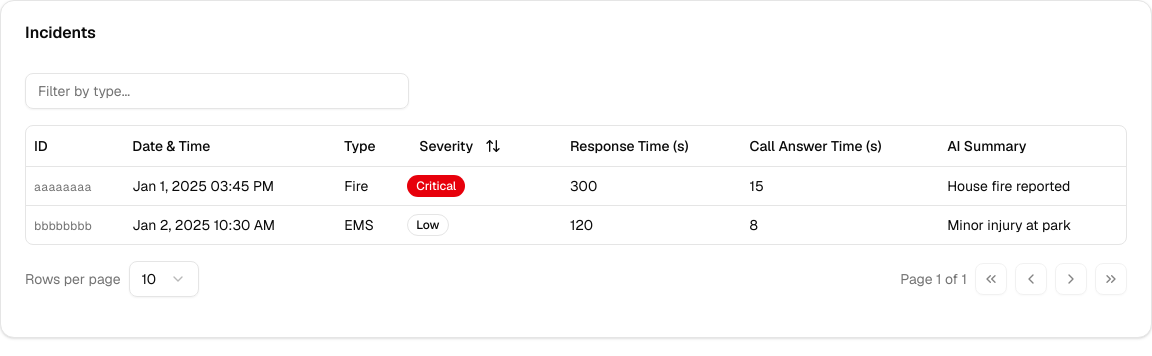
Scenario: IncidentsTable › filters by type
In the field with placeholder "Filter by type...": {"x": 217, "y": 91} [25,73,409,109], type "Fire"
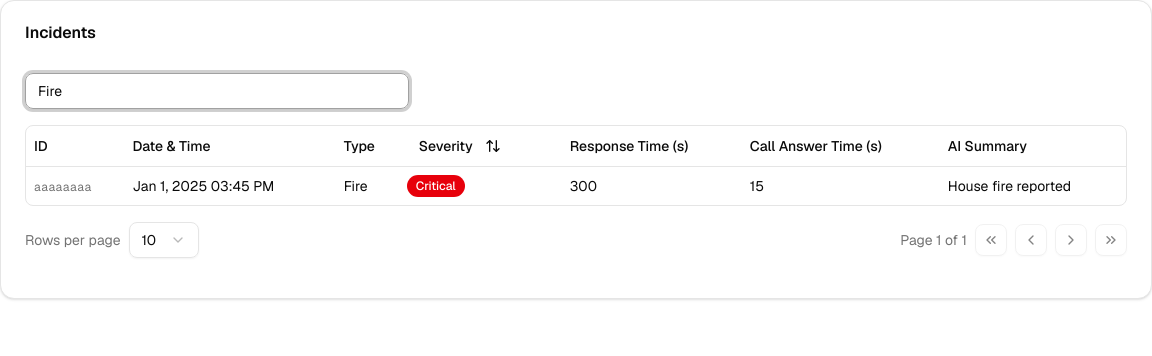
Check: the text "Fire" is shown, box [336,166,399,204]
Check: the text "EMS" is gone
